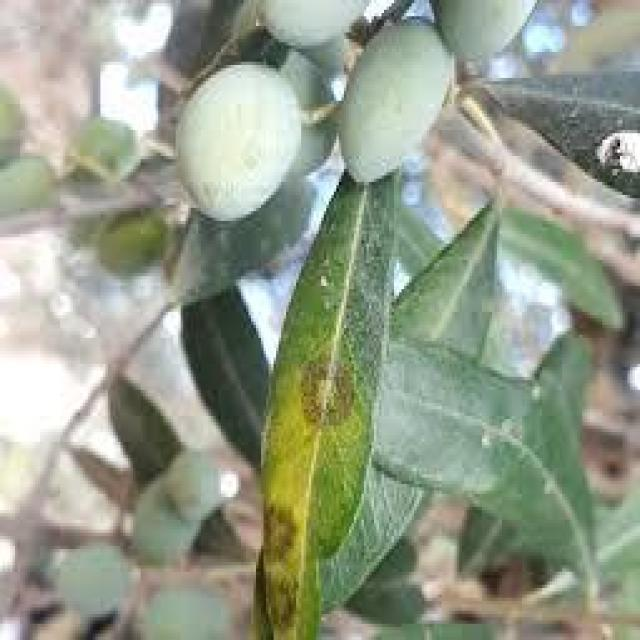OlivePeacockSpot: (260, 172, 396, 637)
